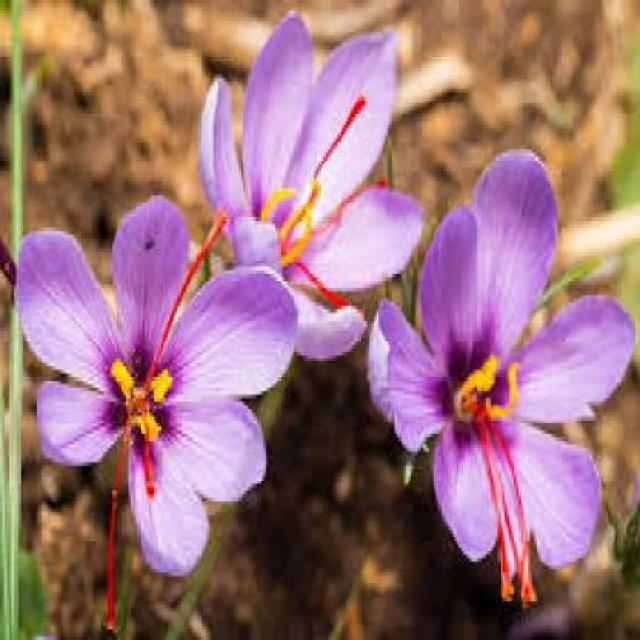saffron open: (370, 151, 635, 585), (17, 198, 299, 564), (201, 13, 421, 359)
